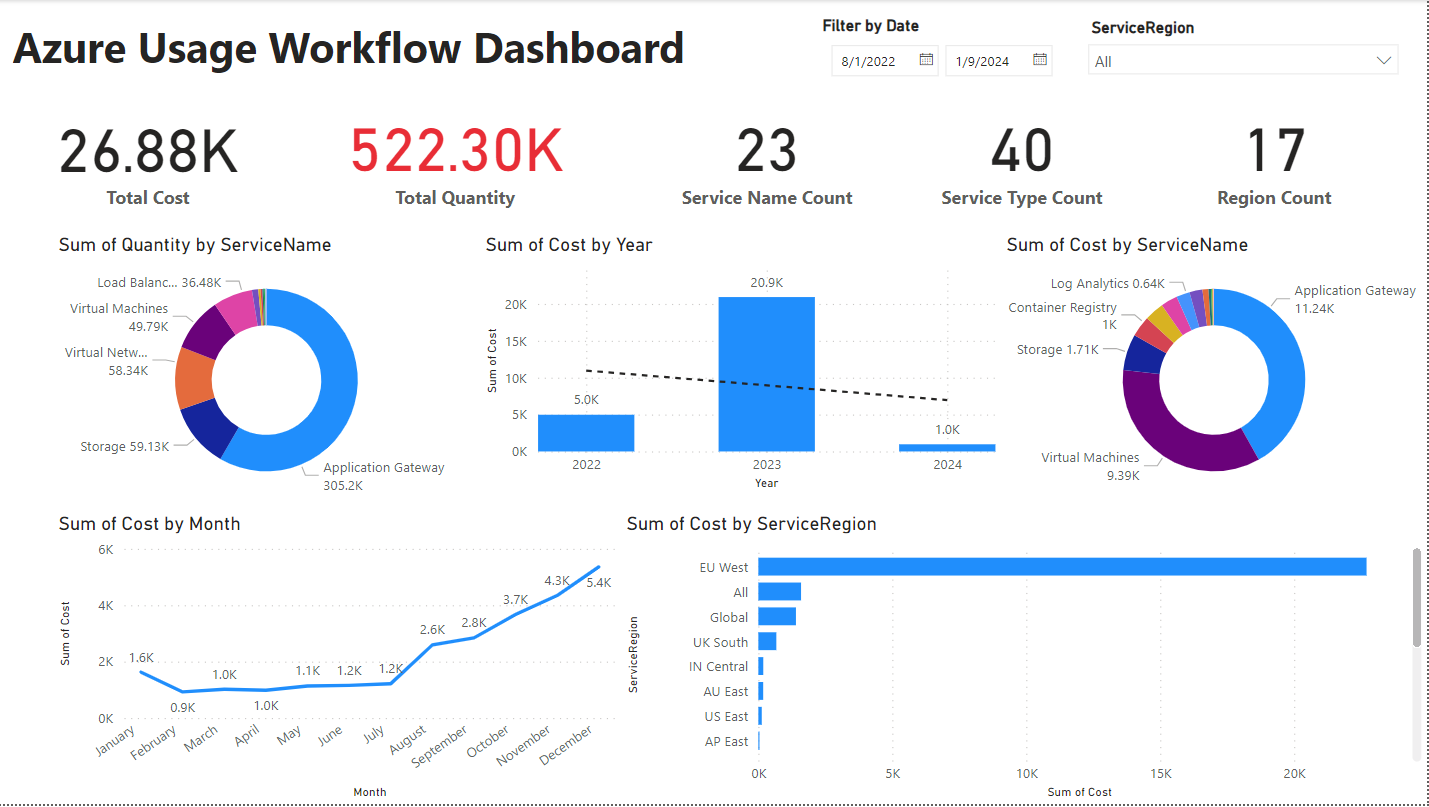

The page's visual inventory and layout, read from the dashboard file:
{"tool":"powerbi","page":{"name":"Main","canvas":[1280,720],"ordinal":0},"visuals":[{"type":"textbox","box":[8.1,11.6,632.2,66.3],"z":0},{"type":"card","fields":{"Values":["Sum(AzureUsage_Workxflow_10-01-2024.Cost)"]},"box":[8,77.8,252.4,120.7],"z":1000},{"type":"card","fields":{"Values":["Sum(AzureUsage_Workxflow_10-01-2024.Quantity)"]},"box":[260.4,62.9,297.3,150.6],"z":2000},{"type":"card","fields":{"Values":["AzureUsage_Workxflow_10-01-2024.Service Type Count"]},"box":[768.2,62.9,297.3,150.6],"z":3000},{"type":"card","fields":{"Values":["AzureUsage_Workxflow_10-01-2024.Region Count"]},"box":[1005.6,62.9,274.4,150.6],"z":4000},{"type":"card","fields":{"Values":["AzureUsage_Workxflow_10-01-2024.Service Name Count"]},"box":[539.7,62.9,297.3,150.6],"z":5000},{"type":"clusteredColumnChart","fields":{"Y":["Sum(AzureUsage_Workxflow_10-01-2024.Cost)"],"Category":["AzureUsage_Workxflow_10-01-2024.Date.Variation.Date Hierarchy.Year"]},"box":[431.6,208.7,466.6,234.6],"z":6000},{"type":"lineChart","fields":{"Category":["AzureUsage_Workxflow_10-01-2024.Date.Variation.Date Hierarchy.Month"],"Y":["Sum(AzureUsage_Workxflow_10-01-2024.Cost)"]},"box":[49.3,458.5,508.7,261.5],"z":7000},{"type":"barChart","fields":{"Category":["AzureUsage_Workxflow_10-01-2024.ServiceRegion"],"Y":["Sum(AzureUsage_Workxflow_10-01-2024.Cost)"]},"box":[557.9,458.5,721.8,261.5],"z":8000},{"type":"donutChart","fields":{"Category":["AzureUsage_Workxflow_10-01-2024.ServiceName"],"Y":["Sum(AzureUsage_Workxflow_10-01-2024.Quantity)"]},"box":[49.3,208.7,382.4,244.5],"z":9000},{"type":"slicer","fields":{"Values":["AzureUsage_Workxflow_10-01-2024.ServiceRegion"]},"box":[966.6,11.8,297.7,69.7],"z":10000},{"type":"donutChart","fields":{"Category":["AzureUsage_Workxflow_10-01-2024.ServiceName"],"Y":["Sum(AzureUsage_Workxflow_10-01-2024.Cost)"]},"box":[898.2,208.7,381.5,244.5],"z":11000},{"type":"slicer","title":"Filter by Date","fields":{"Values":["AzureUsage_Workxflow_10-01-2024.Date"]},"box":[733.4,14.3,232.8,69.9],"z":12000}]}

Visuals, with their boxes in screenshot pixels (x1, y1, x2, y2), scaled from the page's 1280x720 canvas onto the 1429x807 screenshot:
textbox: box=[9, 13, 715, 87]
card - Sum(AzureUsage_Workxflow_10-01-2024.Cost): box=[9, 87, 291, 222]
card - Sum(AzureUsage_Workxflow_10-01-2024.Quantity): box=[291, 71, 623, 239]
card - AzureUsage_Workxflow_10-01-2024.Service Type Count: box=[858, 71, 1190, 239]
card - AzureUsage_Workxflow_10-01-2024.Region Count: box=[1123, 71, 1428, 239]
card - AzureUsage_Workxflow_10-01-2024.Service Name Count: box=[603, 71, 934, 239]
clusteredColumnChart - Sum(AzureUsage_Workxflow_10-01-2024.Cost) x AzureUsage_Workxflow_10-01-2024.Date.Variation.Date Hierarchy.Year: box=[482, 234, 1003, 497]
lineChart - AzureUsage_Workxflow_10-01-2024.Date.Variation.Date Hierarchy.Month x Sum(AzureUsage_Workxflow_10-01-2024.Cost): box=[55, 514, 623, 806]
barChart - AzureUsage_Workxflow_10-01-2024.ServiceRegion x Sum(AzureUsage_Workxflow_10-01-2024.Cost): box=[623, 514, 1428, 806]
donutChart - AzureUsage_Workxflow_10-01-2024.ServiceName x Sum(AzureUsage_Workxflow_10-01-2024.Quantity): box=[55, 234, 482, 508]
slicer - AzureUsage_Workxflow_10-01-2024.ServiceRegion: box=[1079, 13, 1411, 91]
donutChart - AzureUsage_Workxflow_10-01-2024.ServiceName x Sum(AzureUsage_Workxflow_10-01-2024.Cost): box=[1003, 234, 1428, 508]
"Filter by Date" slicer: box=[819, 16, 1079, 94]
